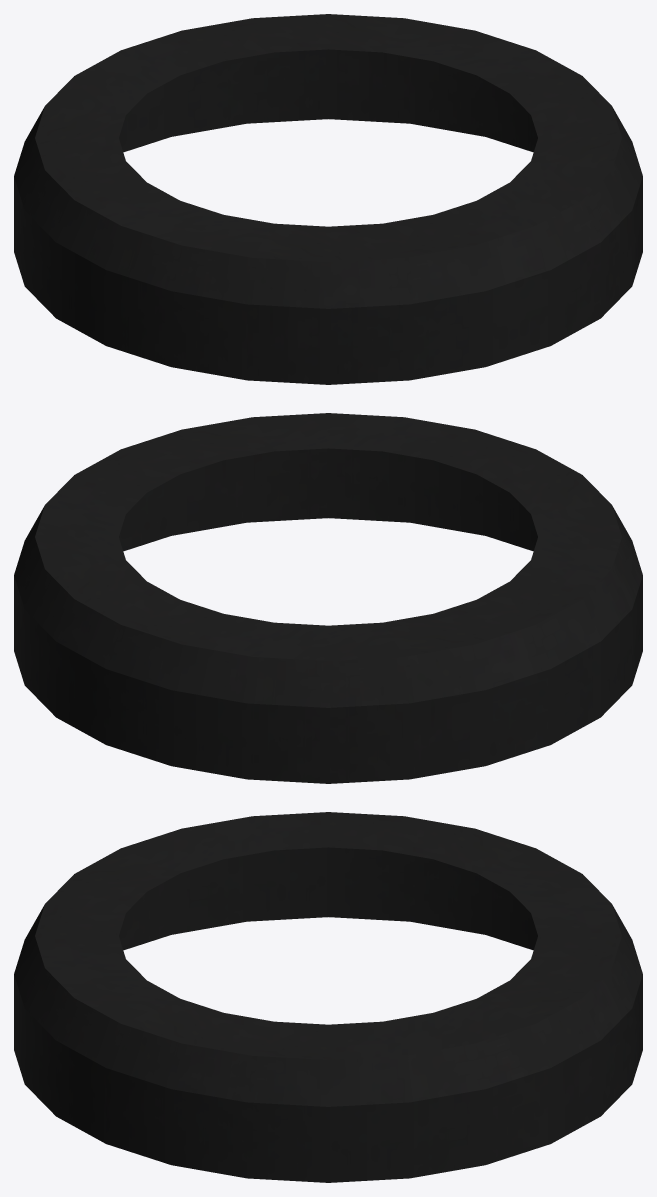
Rendered from vega_adapter_s1p5_1.obj.
3 views of the same model, one above another, from view 1: azimuth 30°, elevation 25°; view 2: azimuth 150°, elevation 25°; view 3: azimuth 270°, elevation 25° (orthographic).
Visible parts, largest first — view 1: 1; view 2: 1; view 3: 1.
Part boxes in pixels (x1,y1,x2,y2): 1: (14,14,642,384); 1: (14,413,642,783); 1: (14,812,642,1182).
Size of the model in its own units: 1.88 by 0.375 by 1.88.
